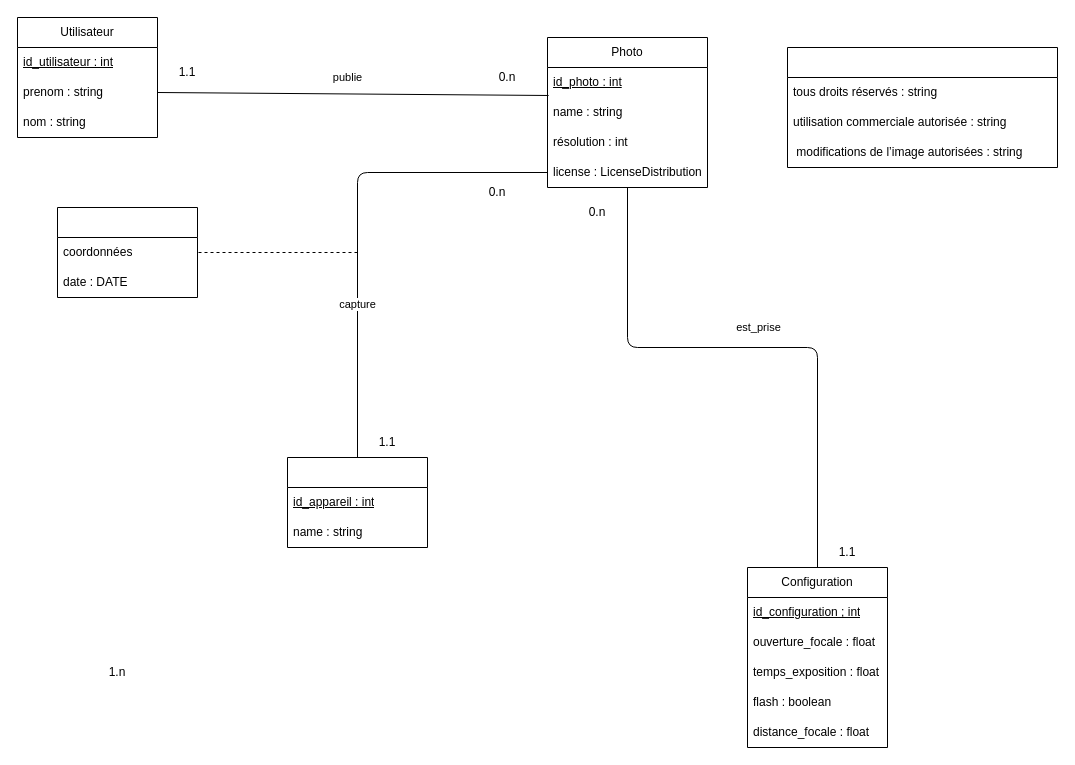
Some shapes in this 1075 by 765 pixel diagram are drawn without their labels. Here are the shapes that lost their labels. From the top down, the box of each, then its label:
(786, 46, 1058, 168): <<enum>>LicenseDistribution
(286, 456, 428, 548): Appareil photo
